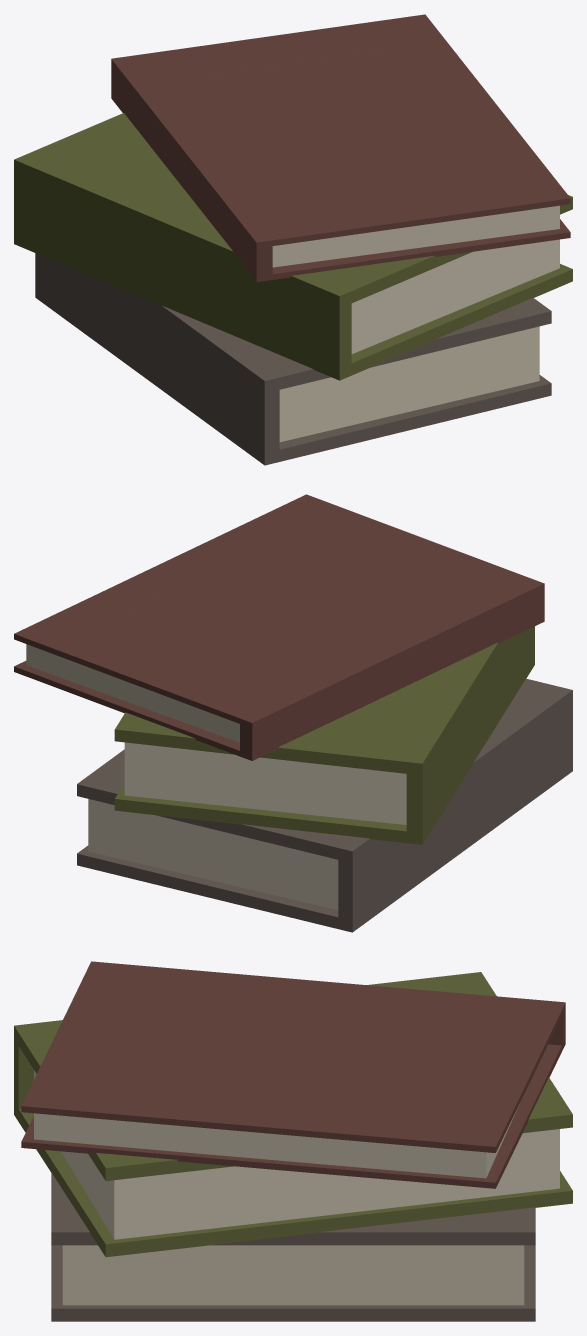
The model's file is clutter2.fbx.
3 views of the same model, one above another, from view 1: azimuth 30°, elevation 25°; view 2: azimuth 150°, elevation 25°; view 3: azimuth 270°, elevation 25° (orthographic). The views are drawn at different scales.
Visible parts, largest first — view 1: Cube.007; view 2: Cube.007; view 3: Cube.007.
Boxes of the visible parts, bbox=[...] form: Cube.007: bbox=[14, 14, 572, 465]; Cube.007: bbox=[14, 494, 572, 932]; Cube.007: bbox=[14, 961, 572, 1321].
Bounding box in the file's own units: 31.57 × 14.9 × 34.63.
